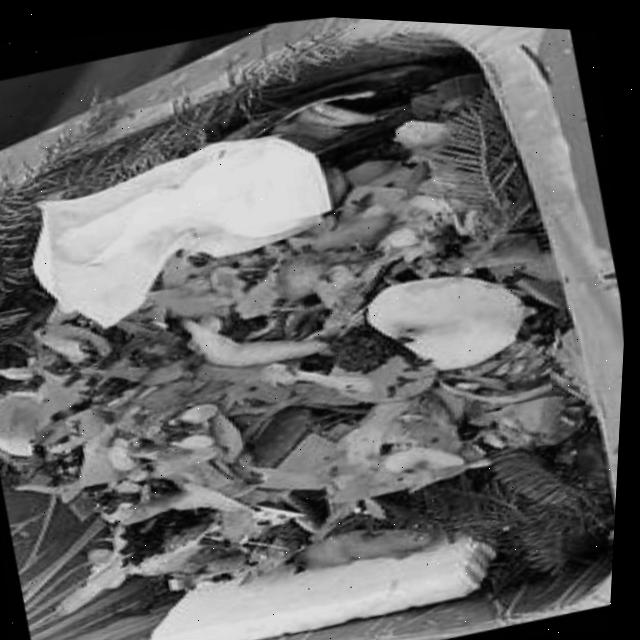Garbage: (0, 26, 620, 640)
Plastic_wraper: (36, 129, 334, 325)
Thermocol: (158, 529, 500, 640)
